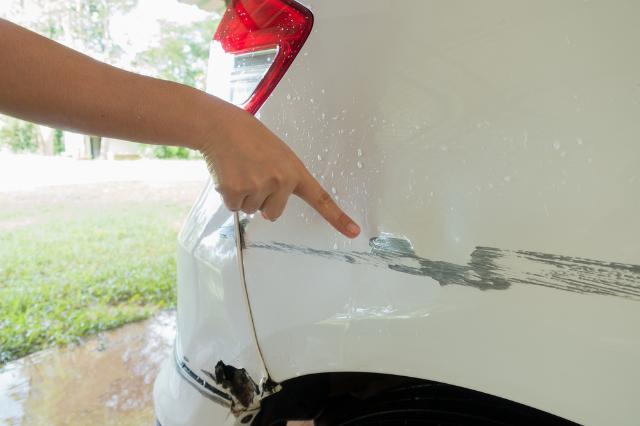crack: (213, 359, 256, 418)
scratch: (239, 219, 640, 305)
